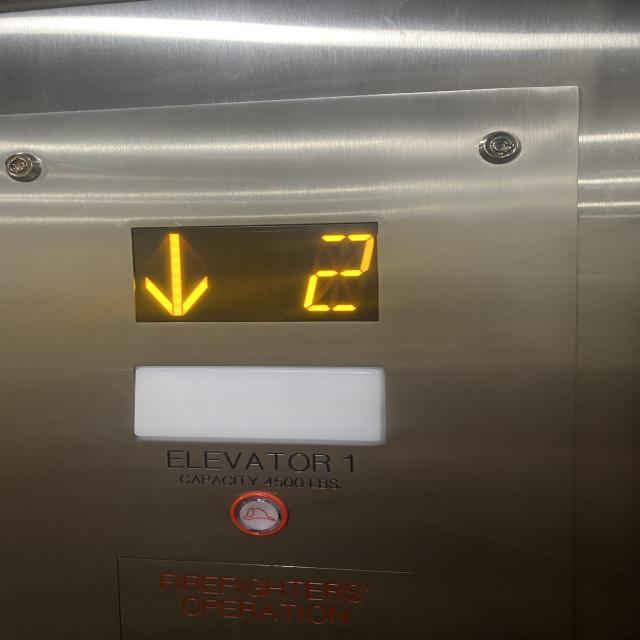box: (109, 217, 412, 336)
